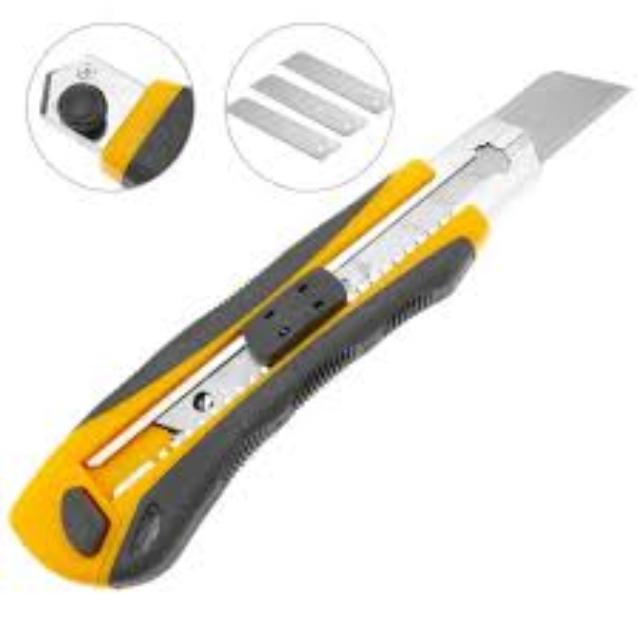knife: (9, 66, 631, 588)
